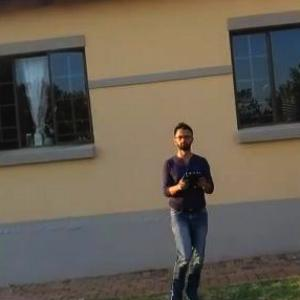follow: (154, 116, 217, 299)
